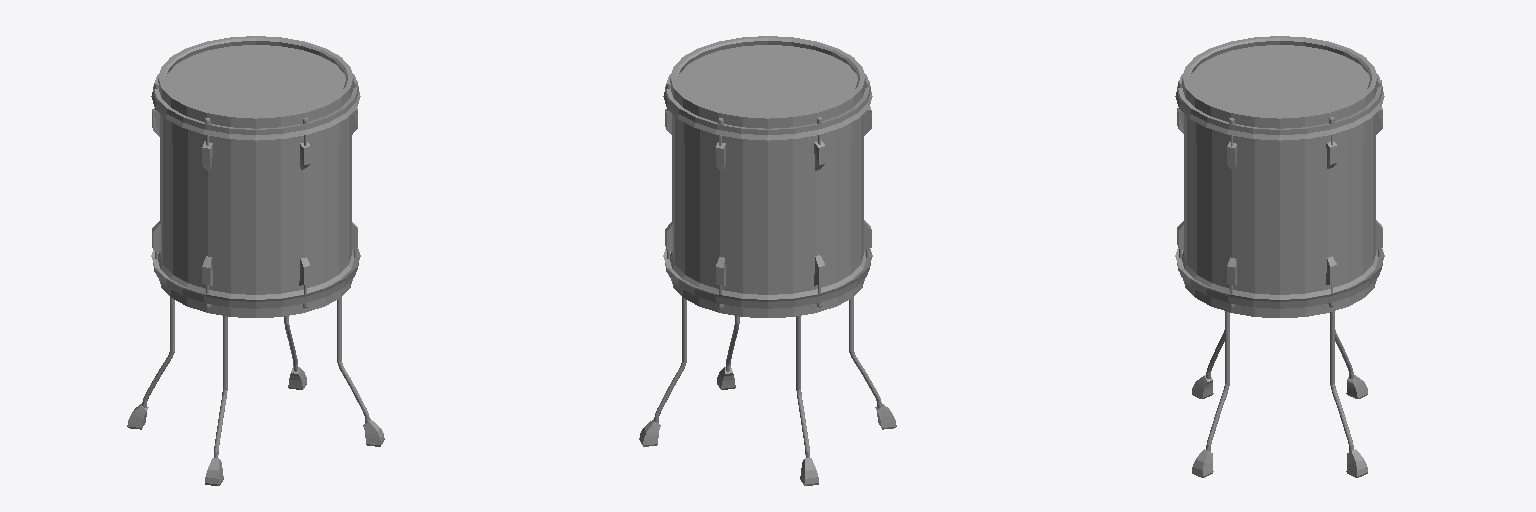
Rendered from floor_tom_OBJ.obj.
The picture shows the model from 3 angles: view 1: azimuth 30°, elevation 25°; view 2: azimuth 150°, elevation 25°; view 3: azimuth 270°, elevation 25°; orthographic projection.
Parts seen in each view (by area): view 1: floor_tom_LOW_Cube.005; view 2: floor_tom_LOW_Cube.005; view 3: floor_tom_LOW_Cube.005.
Boxes of the visible parts, x1,y1,x2,y2 form: floor_tom_LOW_Cube.005: [127, 36, 384, 485]; floor_tom_LOW_Cube.005: [639, 36, 896, 485]; floor_tom_LOW_Cube.005: [1175, 36, 1384, 477].
Bounding box in the file's own units: 41.51 × 78.15 × 41.51.